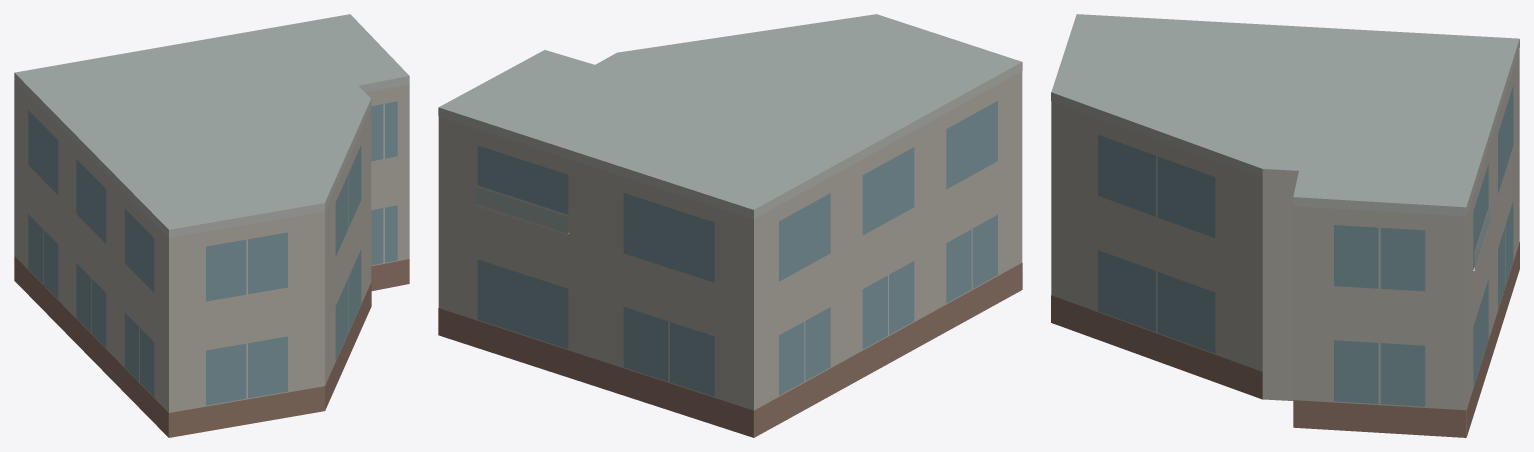
The model's file is survey-upis-32820247.glb.
3 renders of one model, left to right at view 1: azimuth 30°, elevation 25°; view 2: azimuth 150°, elevation 25°; view 3: azimuth 270°, elevation 25°, orthographic. The views are drawn at different scales.
Parts seen in each view (by area): view 1: survey-upis-32820247.tmp; view 2: survey-upis-32820247.tmp; view 3: survey-upis-32820247.tmp.
Part boxes in pixels (x1,y1,x2,y2): survey-upis-32820247.tmp: (14,14,409,437); survey-upis-32820247.tmp: (438,14,1022,437); survey-upis-32820247.tmp: (1051,14,1519,437).
Bounding box in the file's own units: 10.98 × 6.1 × 11.24.
